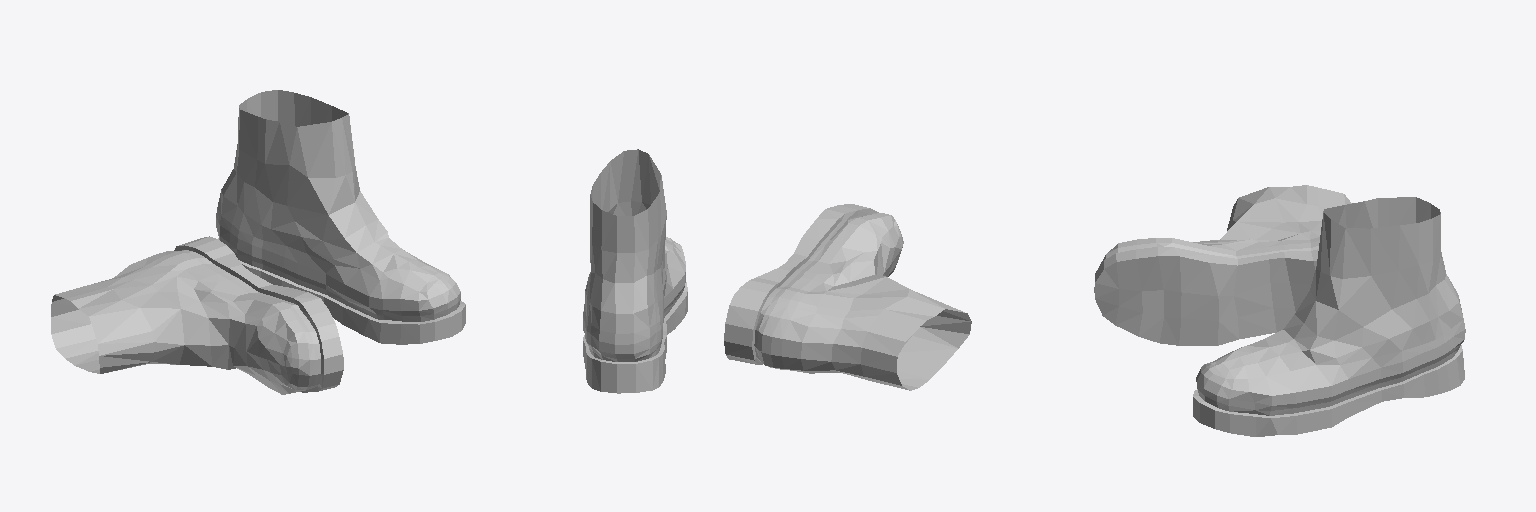
Rendered from boots.obj.
3 renders of one model, left to right at view 1: azimuth 30°, elevation 25°; view 2: azimuth 150°, elevation 25°; view 3: azimuth 270°, elevation 25°, orthographic.
Visible parts, largest first — view 1: boots.001; view 2: boots.001; view 3: boots.001.
Part boxes in pixels (x1,y1,x2,y2): boots.001: (51, 90, 465, 394); boots.001: (583, 149, 971, 393); boots.001: (1094, 185, 1465, 436).
Bounding box in the file's own units: 1.34 × 0.6844 × 1.2.